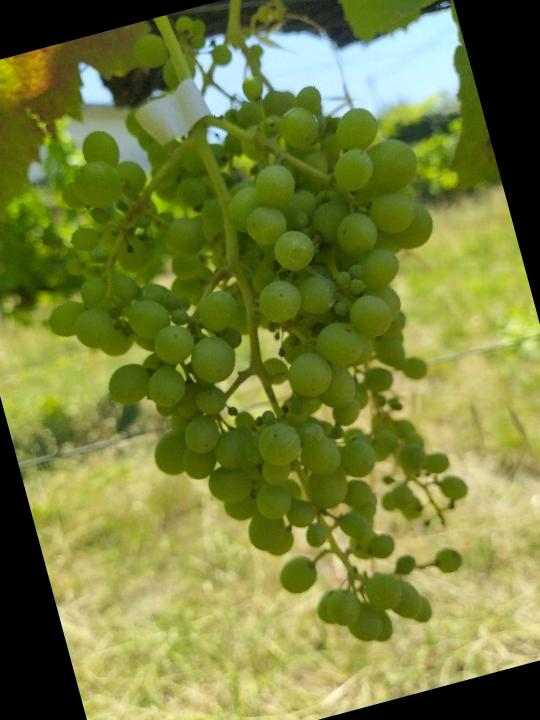grape: (0, 38, 540, 712)
